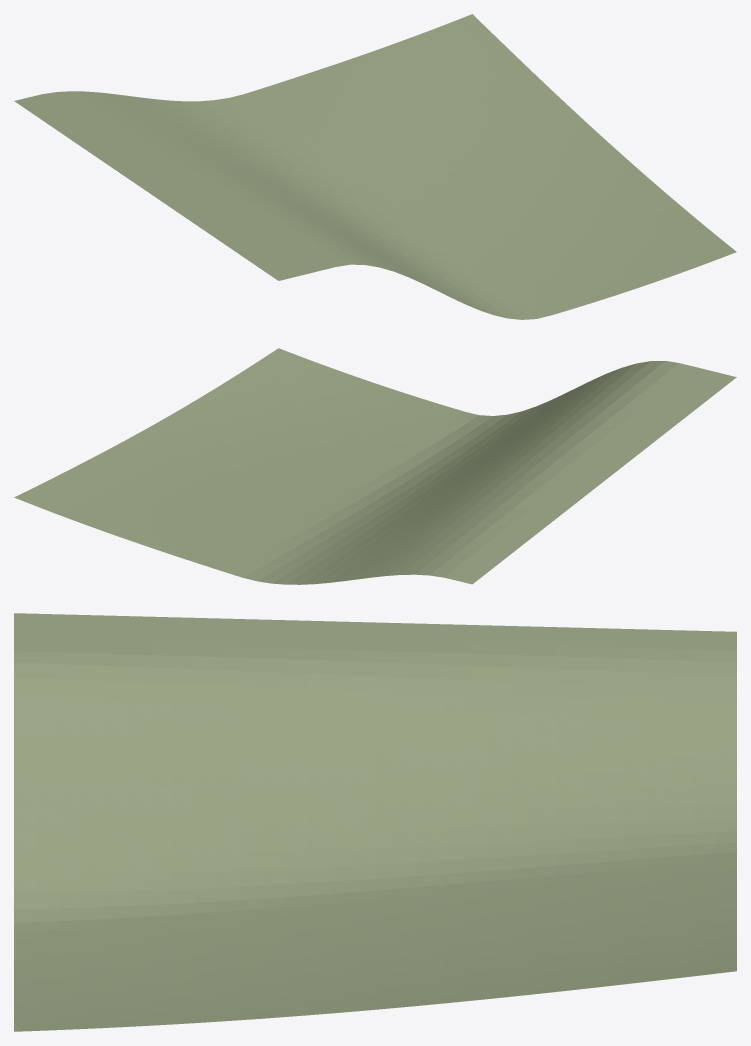
Rendered from alpine-3-8.glb.
The picture shows the model from 3 angles, top to bottom: view 1: azimuth 30°, elevation 25°; view 2: azimuth 150°, elevation 25°; view 3: azimuth 270°, elevation 25°; orthographic projection. The views are drawn at different scales.
Parts seen in each view (by area): view 1: alpine-3-8; view 2: alpine-3-8; view 3: alpine-3-8.
Part boxes in pixels (x1,y1,x2,y2): alpine-3-8: (14, 14, 736, 319); alpine-3-8: (14, 348, 736, 584); alpine-3-8: (14, 613, 736, 1031).
Size of the model in its own units: 256 by 53.91 by 256.
